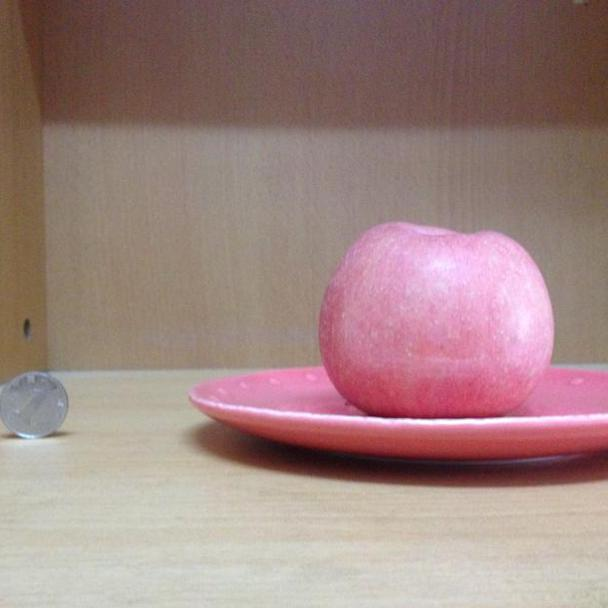apple: (315, 215, 569, 417)
